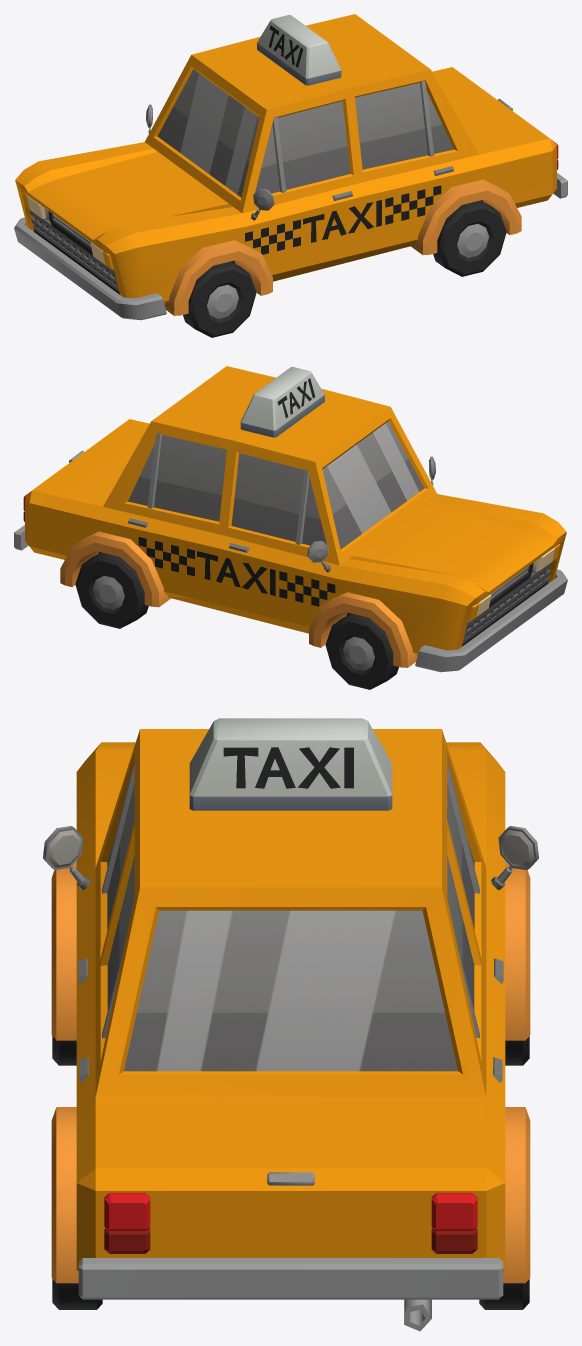
Rendered from Taxi_1.gltf.
3 views of the same model, one above another, from view 1: azimuth 30°, elevation 25°; view 2: azimuth 150°, elevation 25°; view 3: azimuth 270°, elevation 25° (orthographic). The views are drawn at different scales.
Parts seen in each view (by area): view 1: Taxi_1, RL, FL; view 2: Taxi_1, RR, FR; view 3: Taxi_1, RL, RR.
Boxes of the visible parts, x1,y1,x2,y2 form: Taxi_1: (14, 14, 567, 320); RL: (433, 200, 506, 276); FL: (183, 261, 256, 337); Taxi_1: (14, 366, 567, 672); RR: (75, 552, 148, 628); FR: (325, 613, 398, 689); Taxi_1: (43, 718, 538, 1331); RL: (52, 1279, 102, 1309); RR: (479, 1279, 529, 1309).
Size of the model in its own units: 3.55 by 1.7 by 1.67.
Materials: 4 (4 with a texture image).
